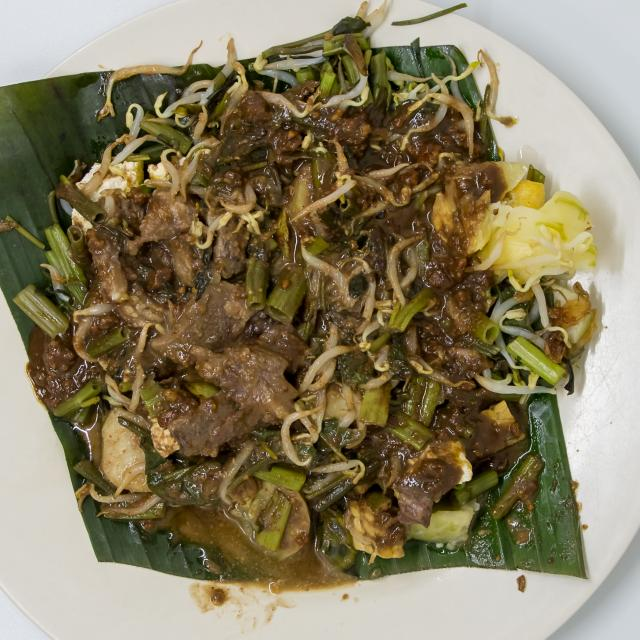Rujak-Cingur: (25, 24, 597, 543)
